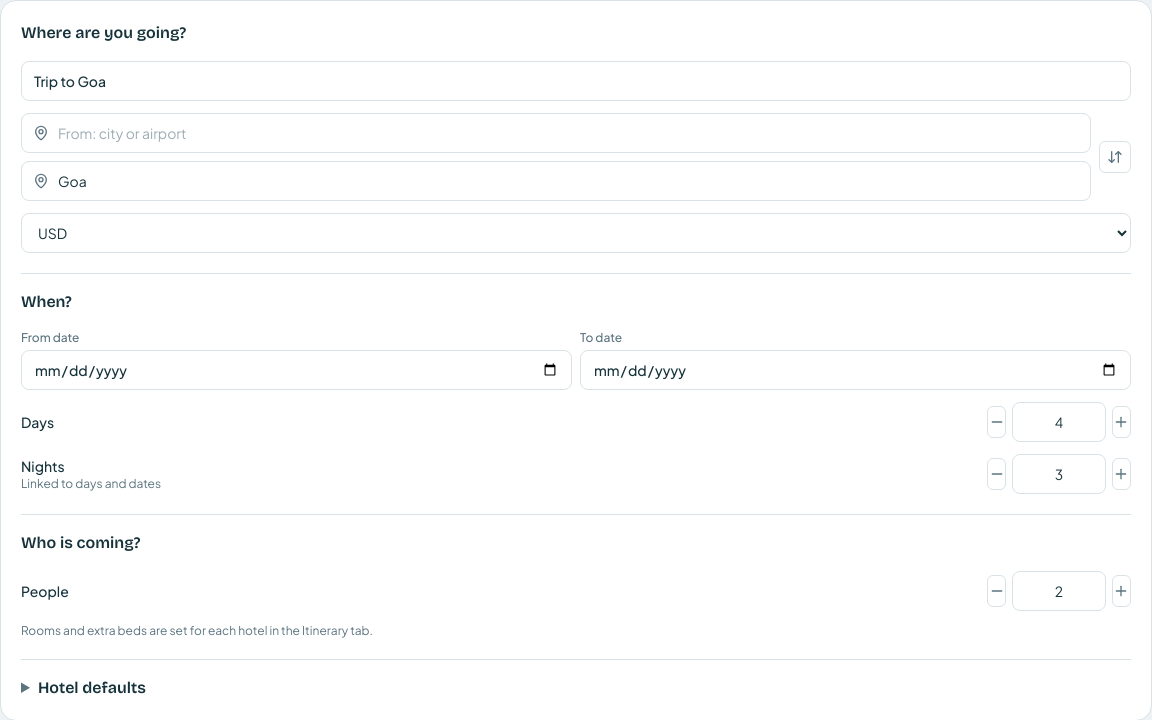
Test: LocationCombobox large result sets › lists every California airport (scrollable), not just the first few
Replace the text in the dropdown named "Destination" with "california". click: (556, 181)
box: [21,161,1091,201]
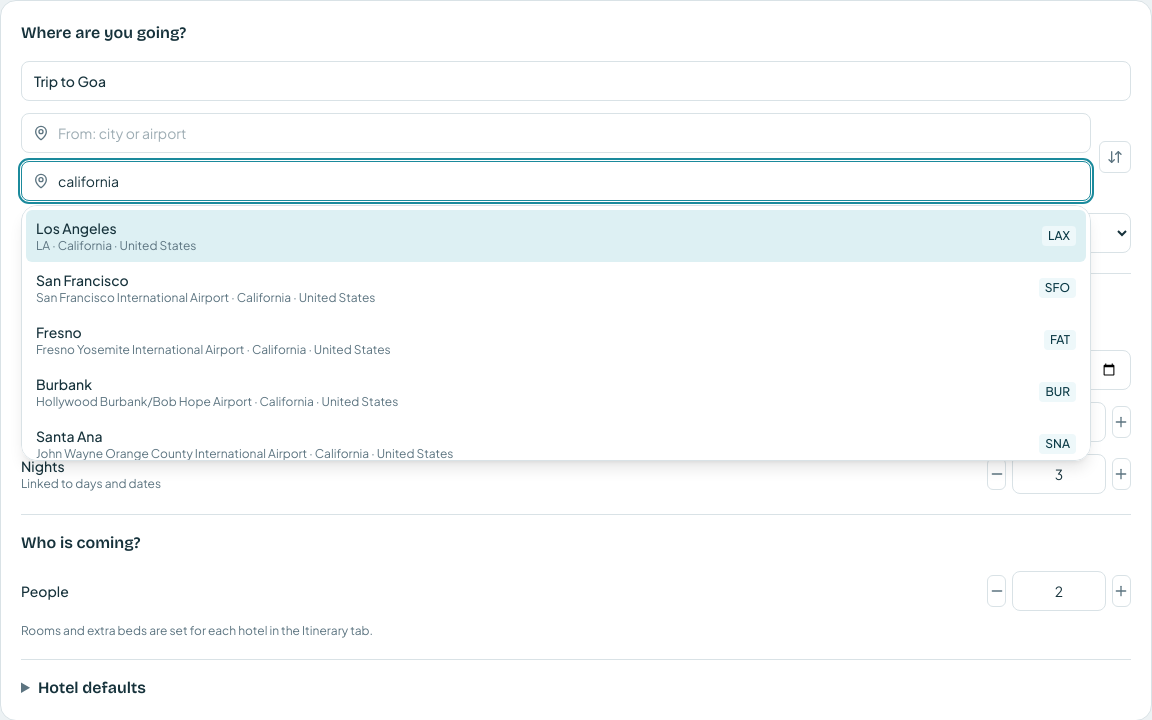
Expected: the option "Los Angeles LA · California · United States LAX" is shown, [26,210,1086,262]
